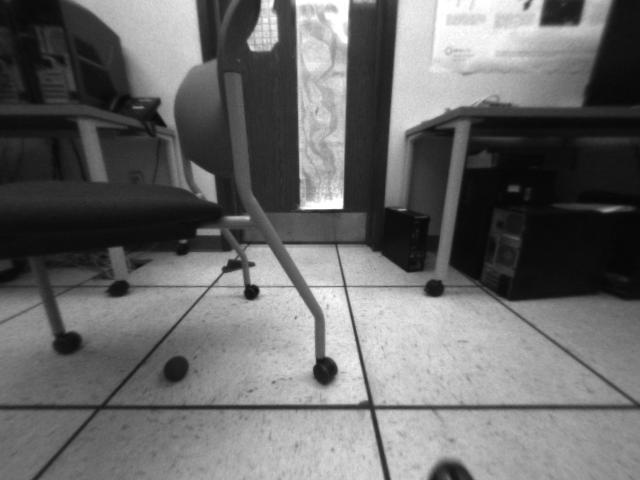dogtoy: (157, 350, 198, 388)
